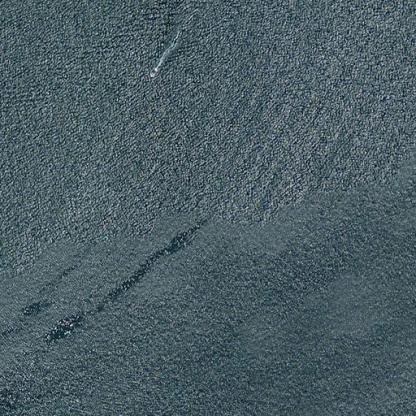ship: (143, 62, 163, 81)
